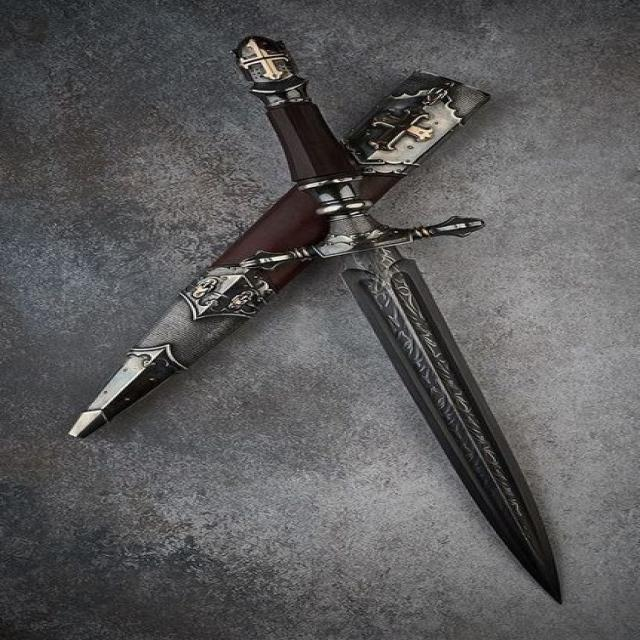short sword: (68, 33, 578, 613)
